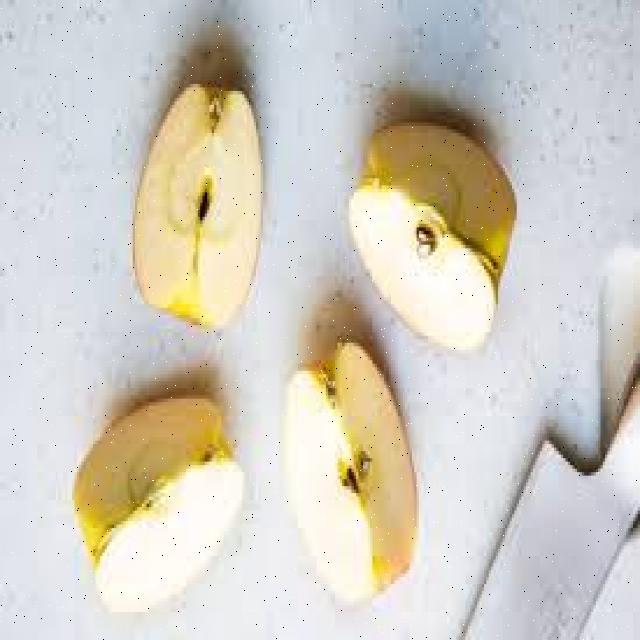Apple: (62, 393, 248, 613), (276, 338, 423, 608), (351, 122, 518, 352), (131, 74, 268, 326)
